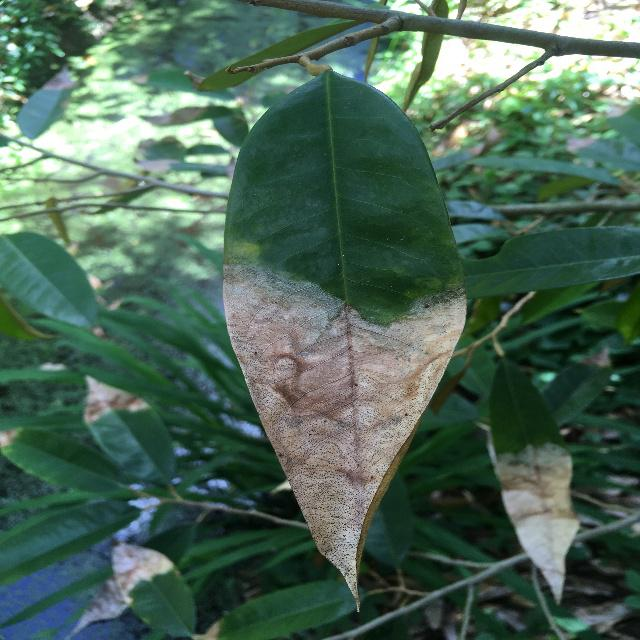Leaf Blight: (211, 57, 477, 621)
